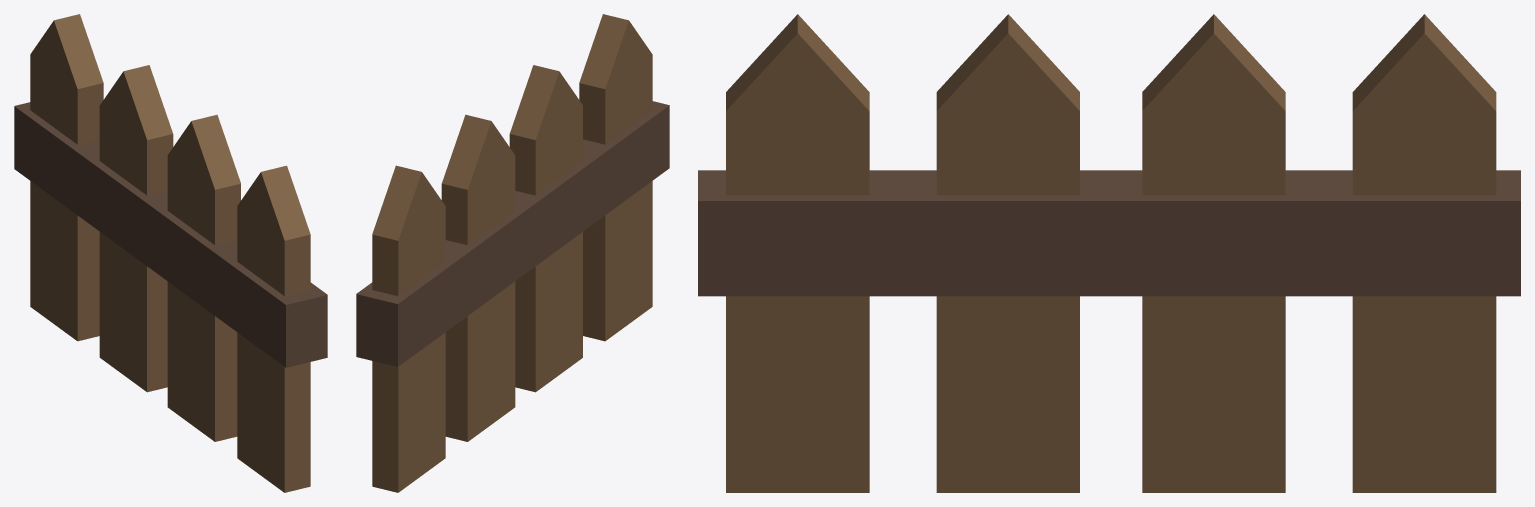
Rendered from barrierre.fbx.
3 views of the same model, side by side, from view 1: azimuth 30°, elevation 25°; view 2: azimuth 150°, elevation 25°; view 3: azimuth 270°, elevation 25° (orthographic). The views are drawn at different scales.
Parts seen in each view (by area): view 1: Cube.004; view 2: Cube.004; view 3: Cube.004.
Part boxes in pixels (x1=…): Cube.004: x1=14, y1=14, x2=327, y2=492; Cube.004: x1=356, y1=14, x2=669, y2=492; Cube.004: x1=698, y1=14, x2=1520, y2=492.
Bounding box in the file's own units: 34.69 × 241 × 391.
